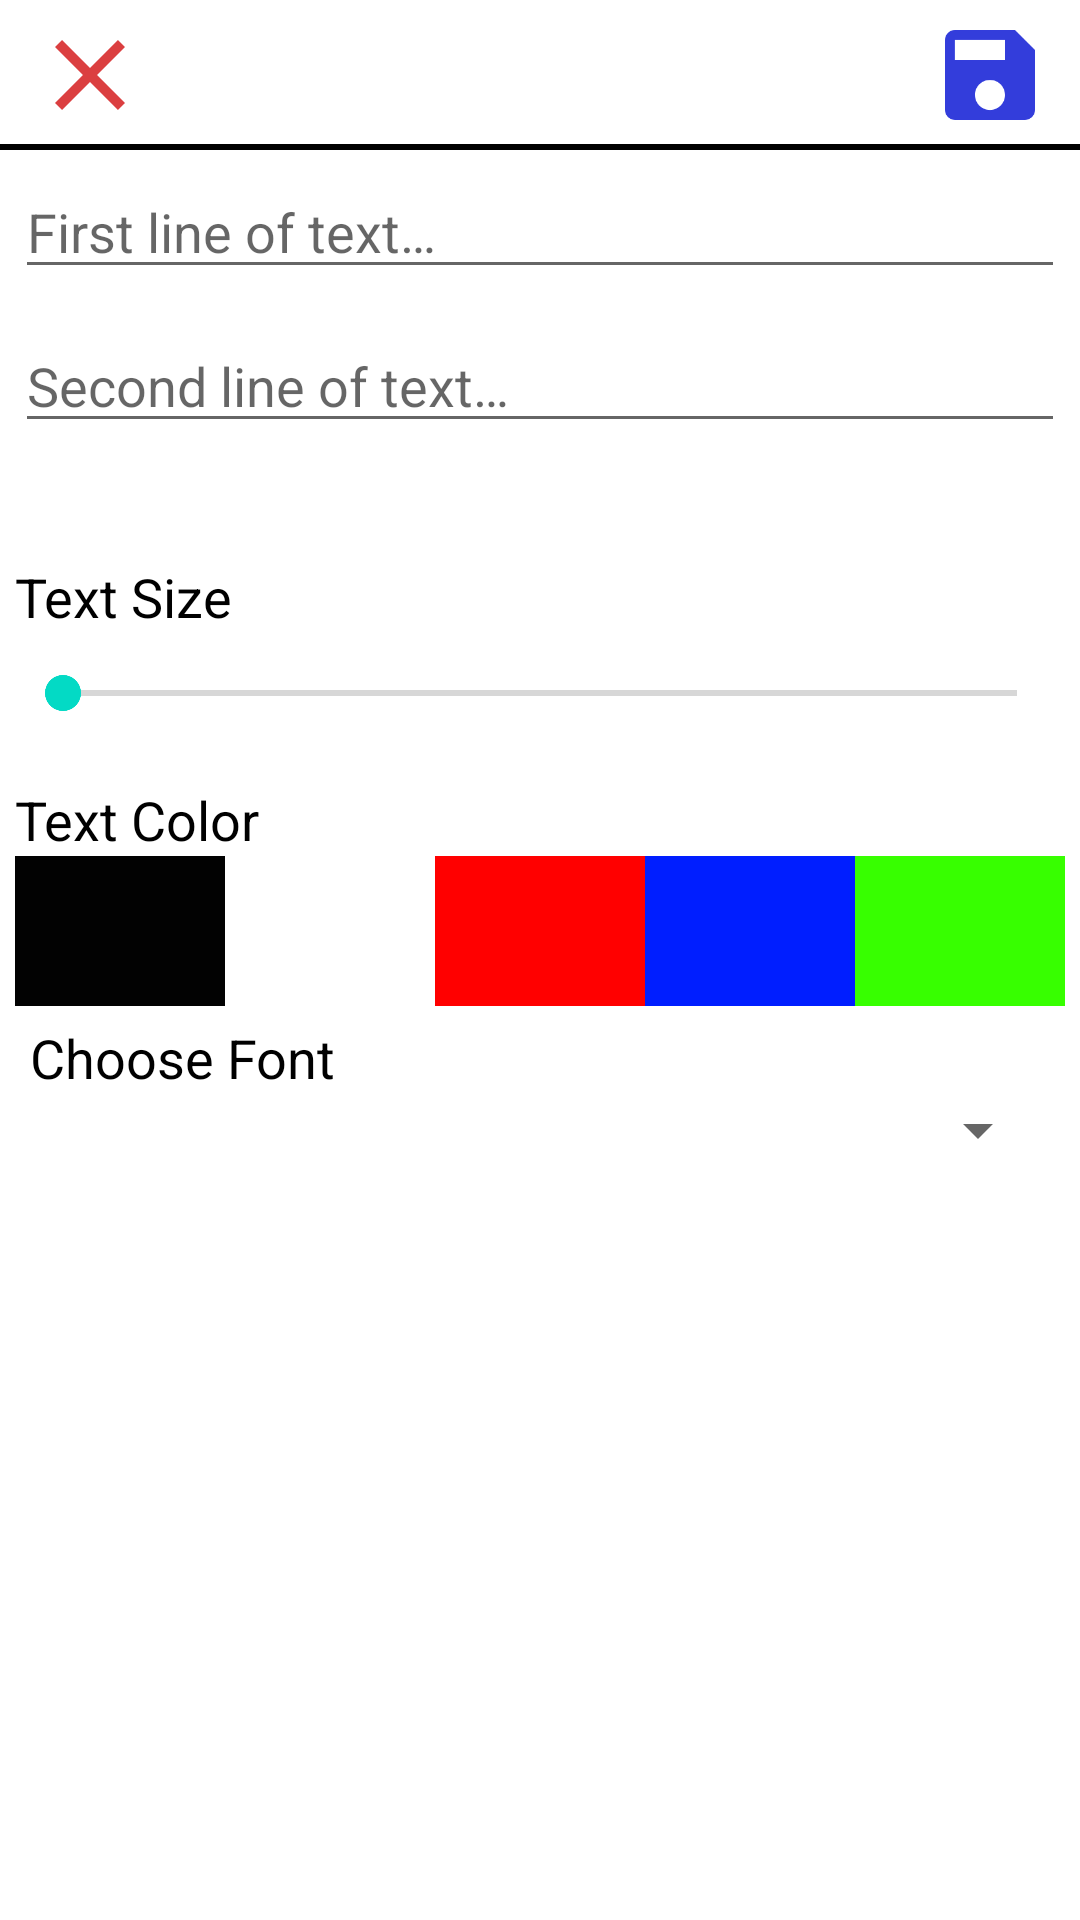

Where to tap for icons on this 1080px x 1920px app screen, as (x=x, y=y):
Close Meme Activity: (x=90, y=75)
Save Meme Photo: (x=990, y=75)
